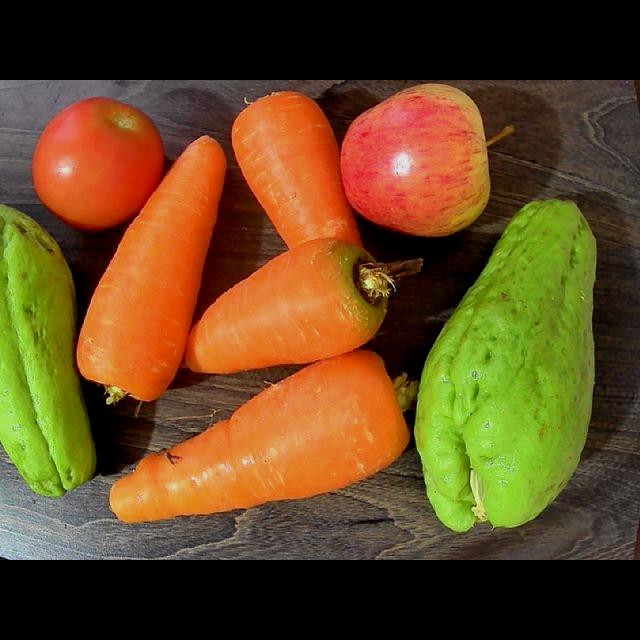chayote: (415, 199, 596, 531), (1, 205, 97, 495)
manzana: (341, 84, 511, 236)
tomate: (33, 97, 164, 229)
zanahoria: (110, 350, 410, 522), (77, 136, 227, 403), (186, 238, 422, 373), (232, 91, 363, 247)
